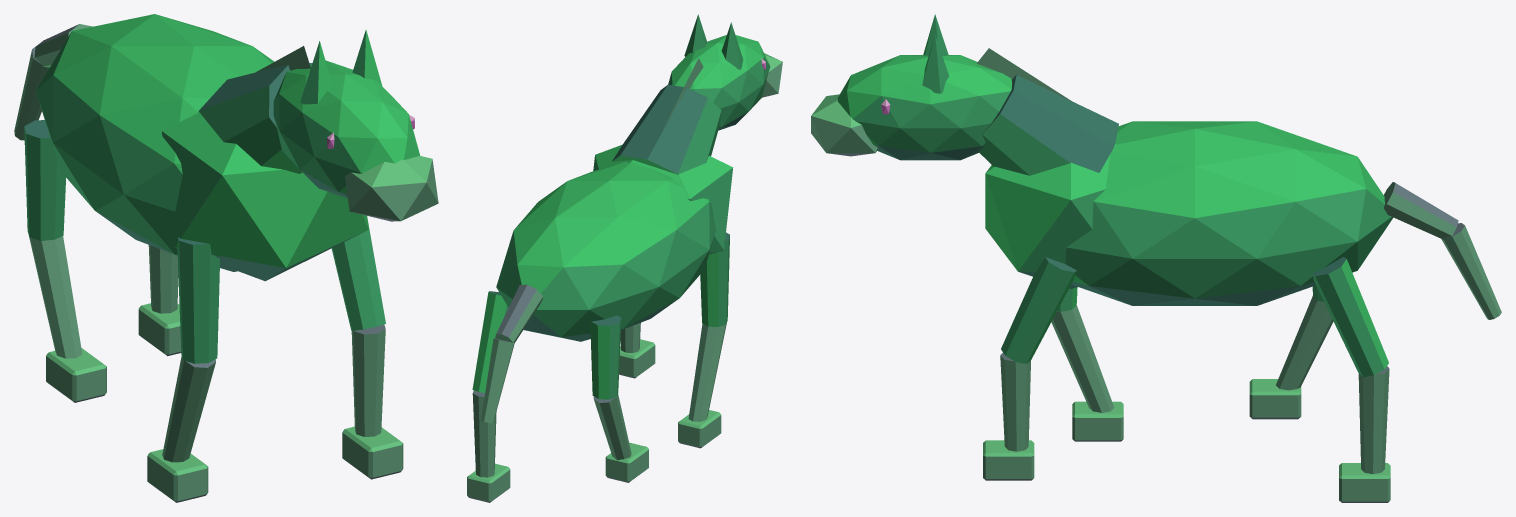
Rendered from creature_horse_down_b_v01.glb.
The picture shows the model from 3 angles, left to right: view 1: azimuth 30°, elevation 25°; view 2: azimuth 150°, elevation 25°; view 3: azimuth 270°, elevation 25°; orthographic projection. The views are drawn at different scales.
Parts seen in each view (by area): view 1: GEO_creature_horse_down_b_v01; view 2: GEO_creature_horse_down_b_v01; view 3: GEO_creature_horse_down_b_v01.
Boxes of the visible parts, <box> form: GEO_creature_horse_down_b_v01: <box>14,14,438,502</box>; GEO_creature_horse_down_b_v01: <box>467,14,782,502</box>; GEO_creature_horse_down_b_v01: <box>811,14,1501,502</box>.
Bounding box in the file's own units: 0.913 × 2.09 × 2.95.
